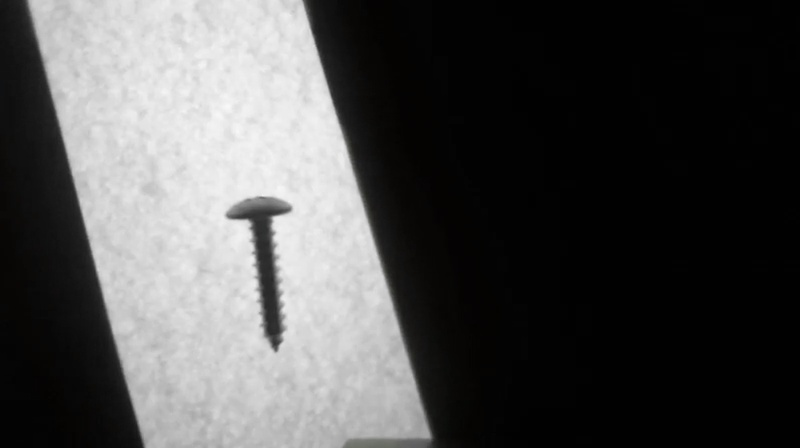S003: (221, 193, 296, 356)
